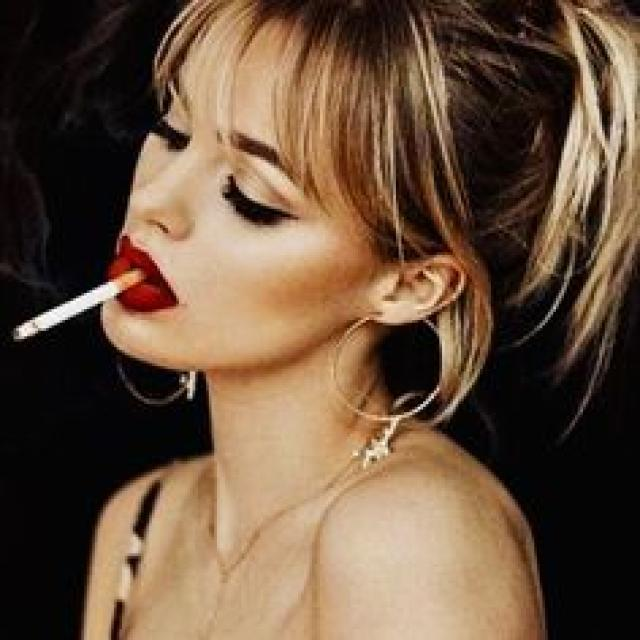rokok: (10, 268, 146, 339)
